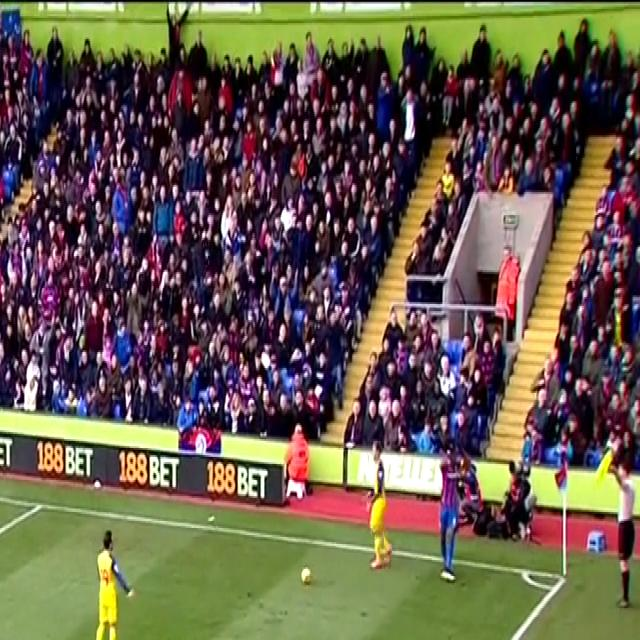ball: (293, 561, 317, 593)
referee: (606, 455, 640, 618)
soccer-player: (74, 521, 145, 640), (358, 450, 403, 583)
